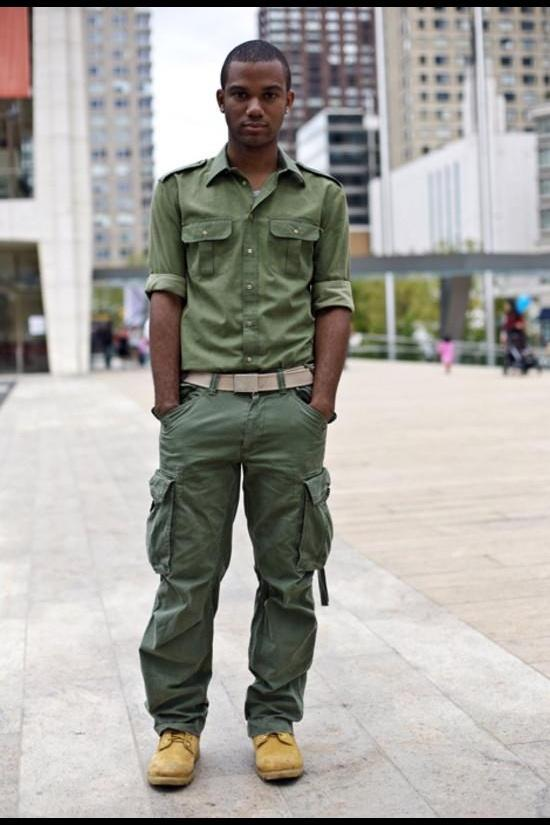pants: (138, 368, 334, 732)
shirt: (142, 144, 352, 374)
